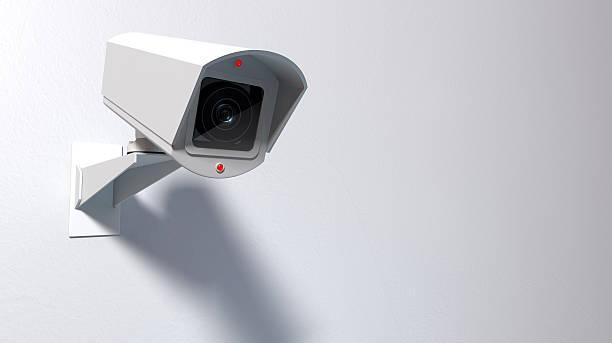camera: (83, 9, 308, 212)
